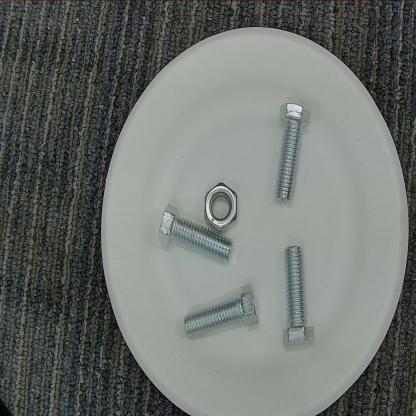FOD: (183, 280, 266, 343), (158, 208, 238, 266), (280, 244, 322, 351), (272, 102, 314, 208), (203, 182, 242, 230)
